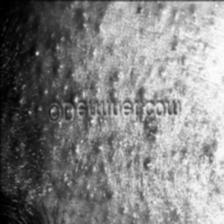Non-Cancerous Skin Condition: (19, 0, 195, 95)
